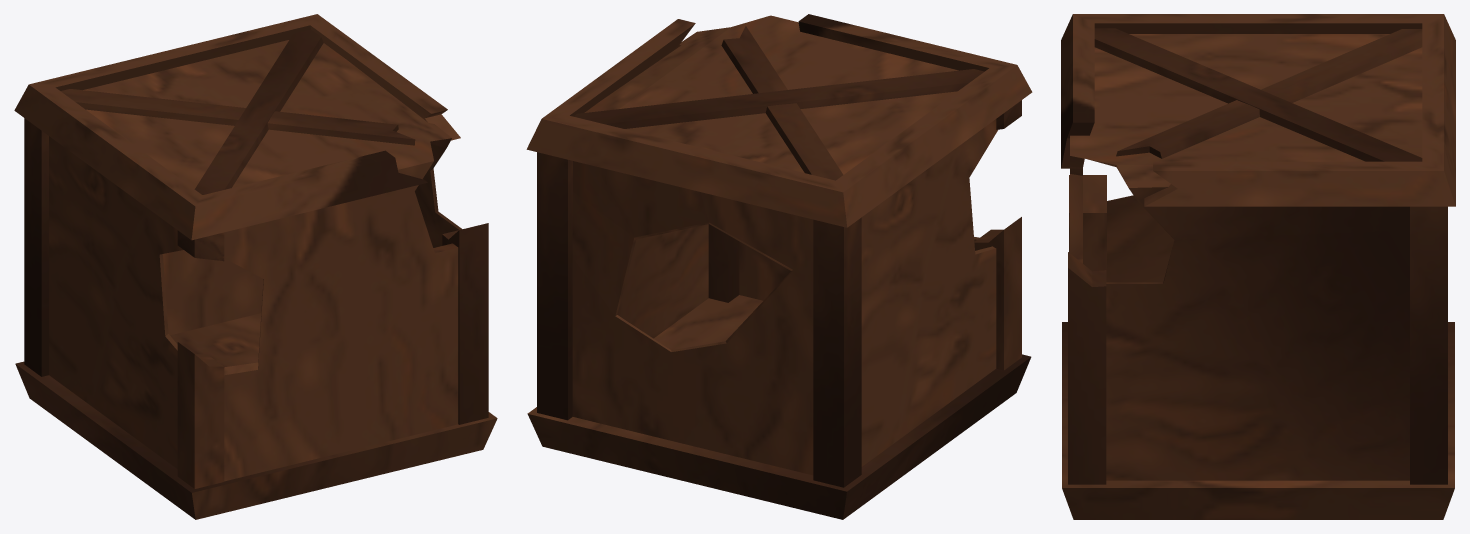
The model's file is Caixa_5_quebrada.glb.
3 views of the same model, side by side, from view 1: azimuth 30°, elevation 25°; view 2: azimuth 150°, elevation 25°; view 3: azimuth 270°, elevation 25° (orthographic). The views are drawn at different scales.
Visible parts, largest first — view 1: Caixa.5.quebrada; view 2: Caixa.5.quebrada; view 3: Caixa.5.quebrada.
Part boxes in pixels (box(x1,y1,x2,y2)): Caixa.5.quebrada: box(14, 14, 497, 519); Caixa.5.quebrada: box(526, 14, 1032, 519); Caixa.5.quebrada: box(1061, 14, 1455, 519).
Size of the model in its own units: 0.9432 by 0.9214 by 0.9432.
1 material, 1 textured.
